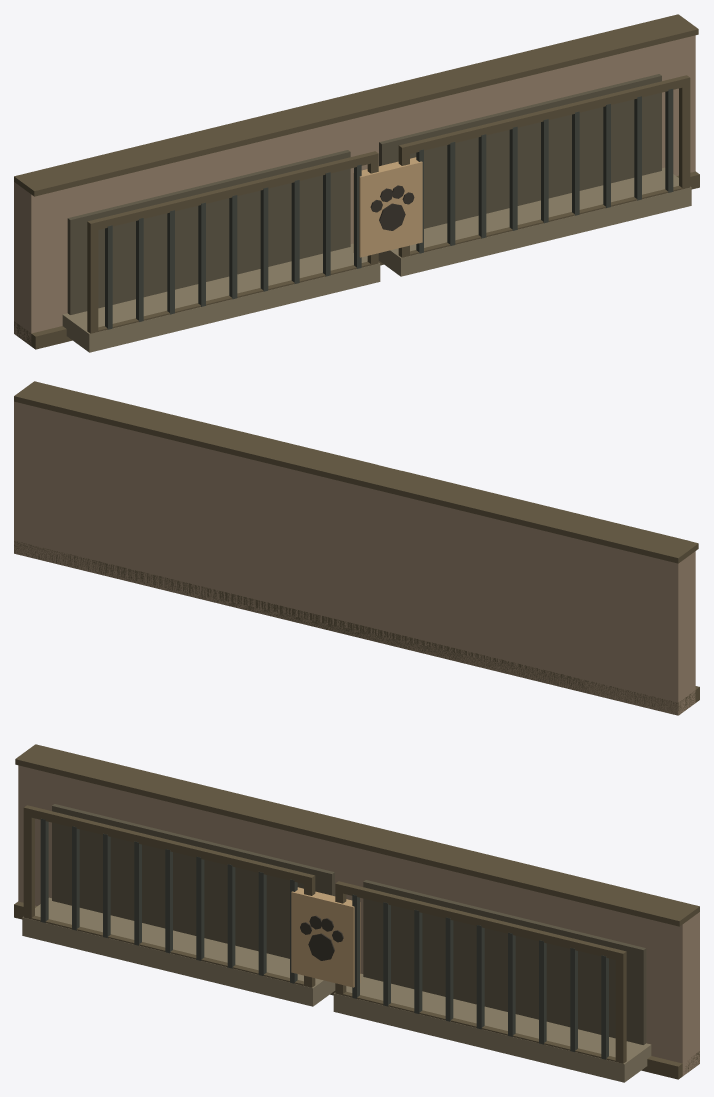
Rendered from ZO_WallA.glb.
3 views of the same model, one above another, from view 1: azimuth 30°, elevation 25°; view 2: azimuth 150°, elevation 25°; view 3: azimuth 330°, elevation 25° (orthographic).
Parts seen in each view (by area): view 1: ZO_WallA; view 2: ZO_WallA; view 3: ZO_WallA.
Boxes of the visible parts, x1=… form: ZO_WallA: x1=14, y1=14, x2=699, y2=352; ZO_WallA: x1=14, y1=381, x2=699, y2=715; ZO_WallA: x1=14, y1=744, x2=699, y2=1082.
Size of the model in its own units: 64 by 14.5 by 7.76.
Materials: 1 (1 with a texture image).
